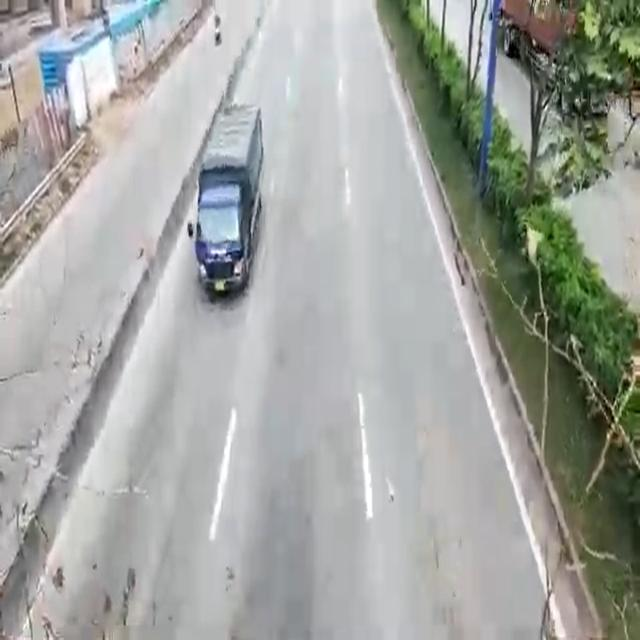truck: (199, 105, 259, 290)
